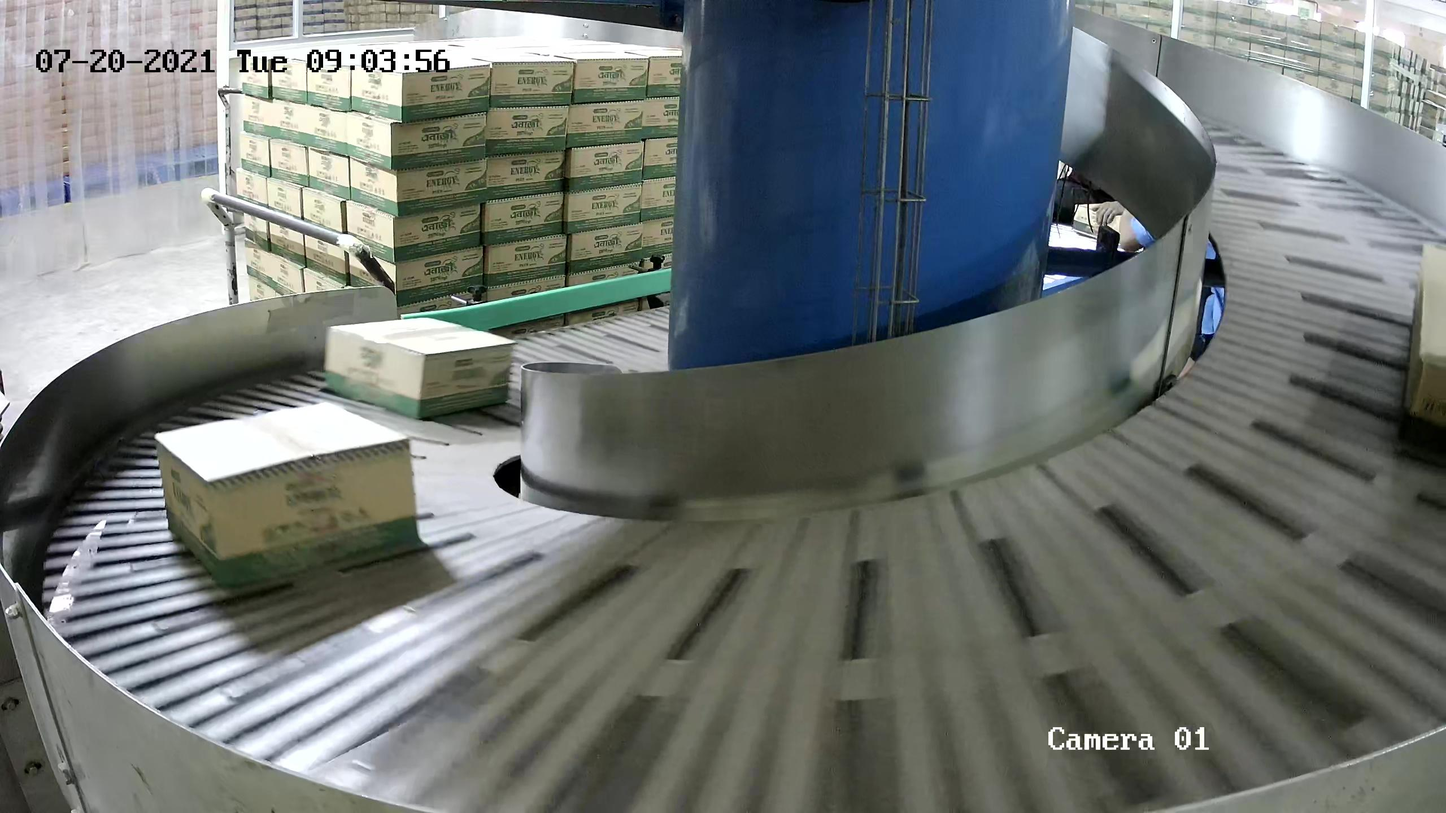Box: (152, 399, 426, 593), (323, 316, 518, 421)
